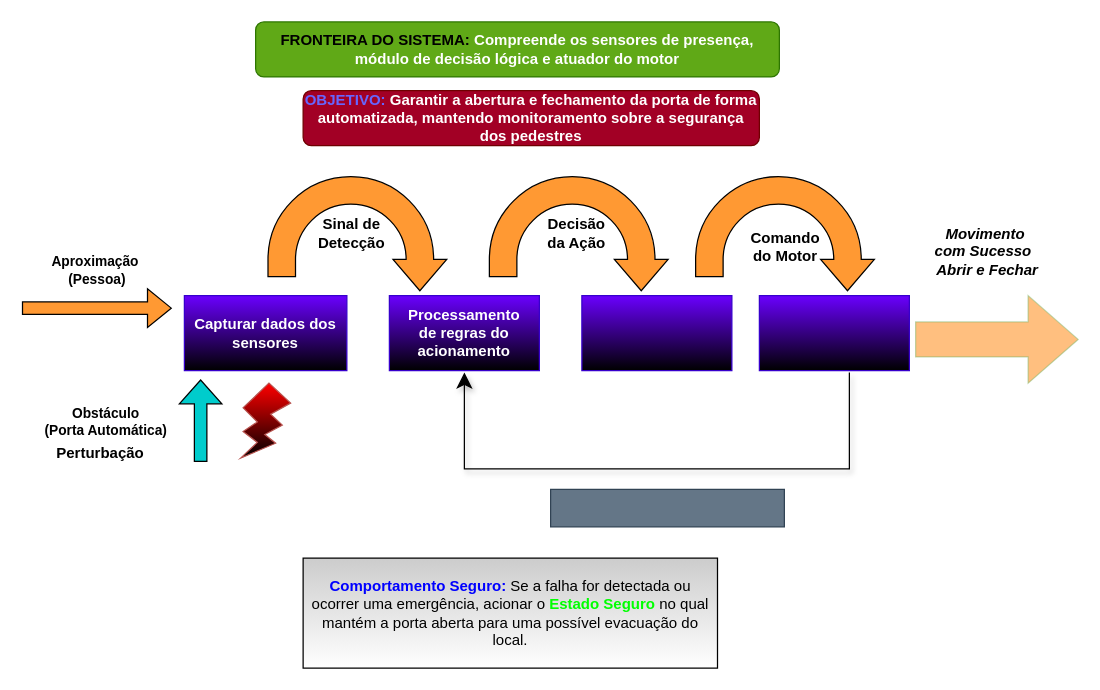
This 1100x690 diagram has some shape labels left out. The centre of each missing label's shape, as x and y in pixels:
CONFIRMAÇÃO/INTERRUPÇÃO: the point at 666,507
Execução do Movimento: the point at 833,332
Falha (Sinal Interrompido): the point at 265,420
Gerar comandos de Movimento: the point at 656,332
